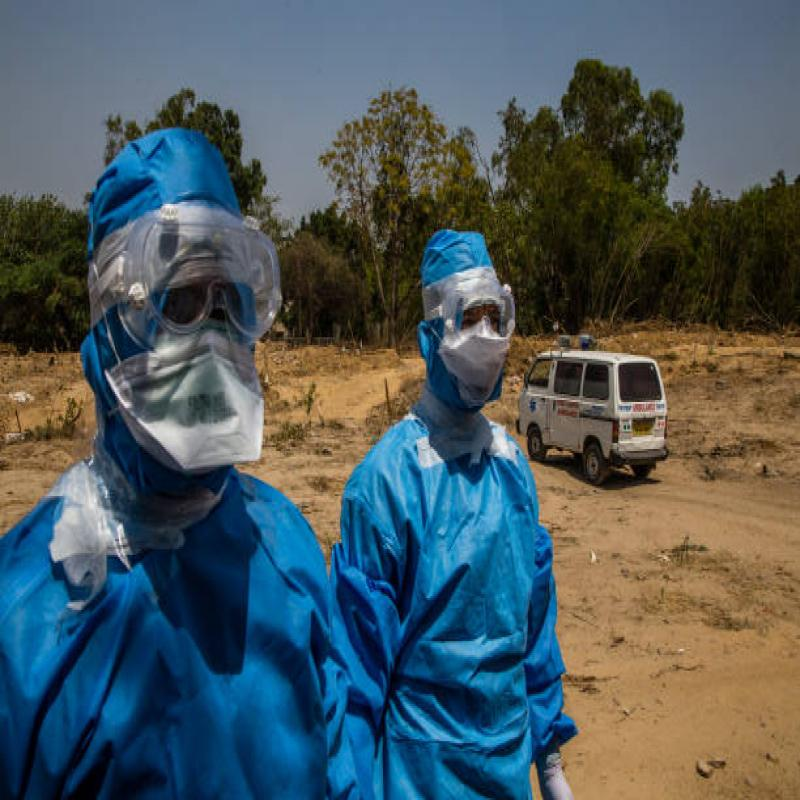ambulance: (517, 319, 667, 499)
